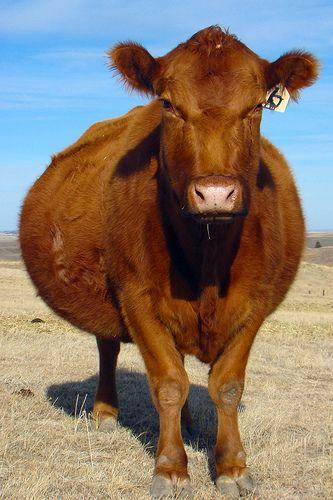cow: (4, 7, 321, 457)
